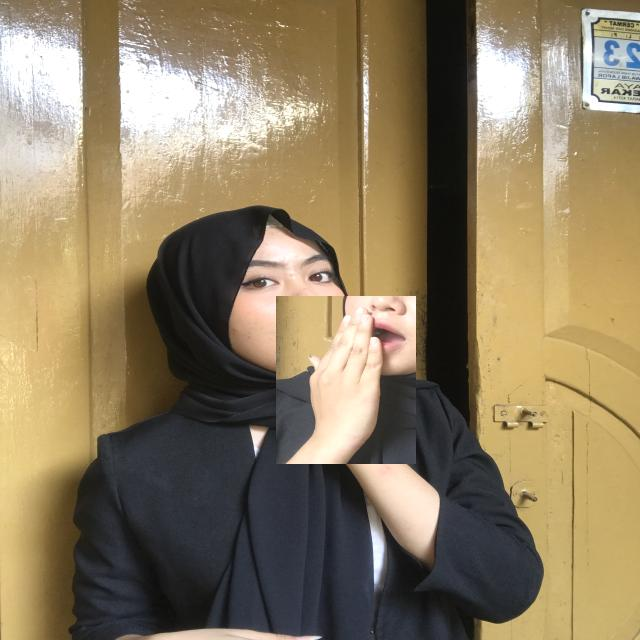ngantuk: (276, 296, 416, 464)
